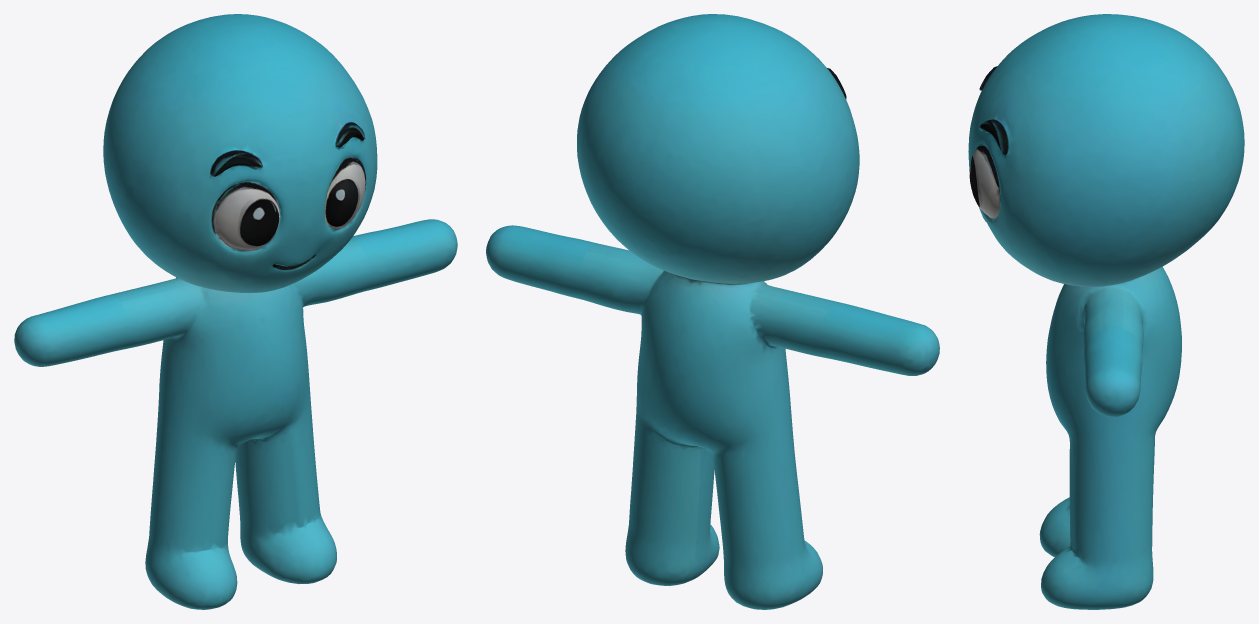
Rendered from cyan_preview.glb.
3 renders of one model, left to right at view 1: azimuth 30°, elevation 25°; view 2: azimuth 150°, elevation 25°; view 3: azimuth 270°, elevation 25°, orthographic. The views are drawn at different scales.
Parts seen in each view (by area): view 1: tripo_node_a202915d; view 2: tripo_node_a202915d; view 3: tripo_node_a202915d.
Part boxes in pixels (box(x1,y1,x2,y2)): tripo_node_a202915d: box(14, 14, 457, 609); tripo_node_a202915d: box(486, 14, 939, 609); tripo_node_a202915d: box(968, 14, 1244, 609).
Bounding box in the file's own units: 0.8317 × 0.9998 × 0.4521.
1 material, 1 textured.
